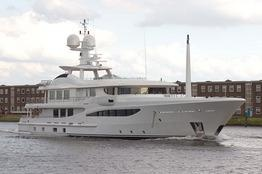yacht: (13, 17, 241, 137)
